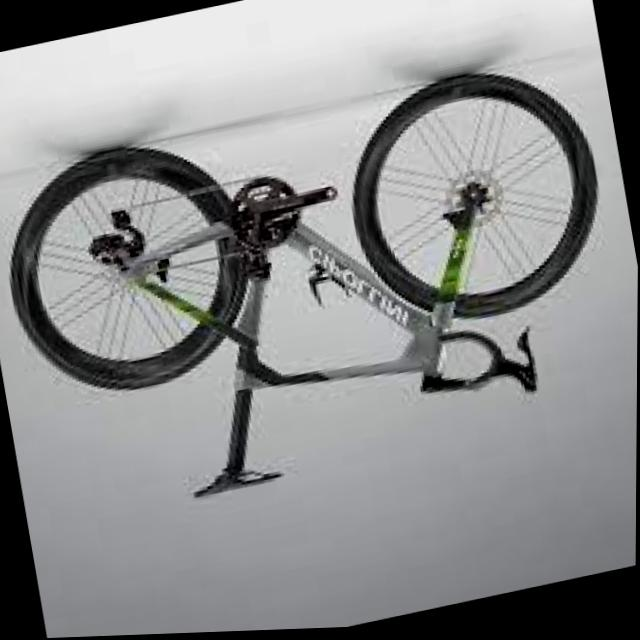road-bike: (0, 51, 640, 534)
